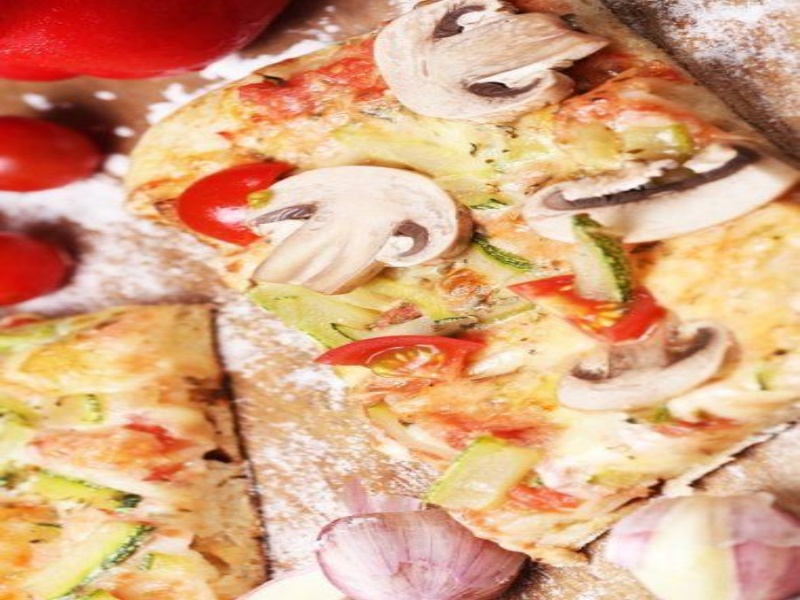champignon: (235, 158, 481, 299), (517, 134, 800, 245), (359, 4, 598, 127), (554, 320, 745, 411)
